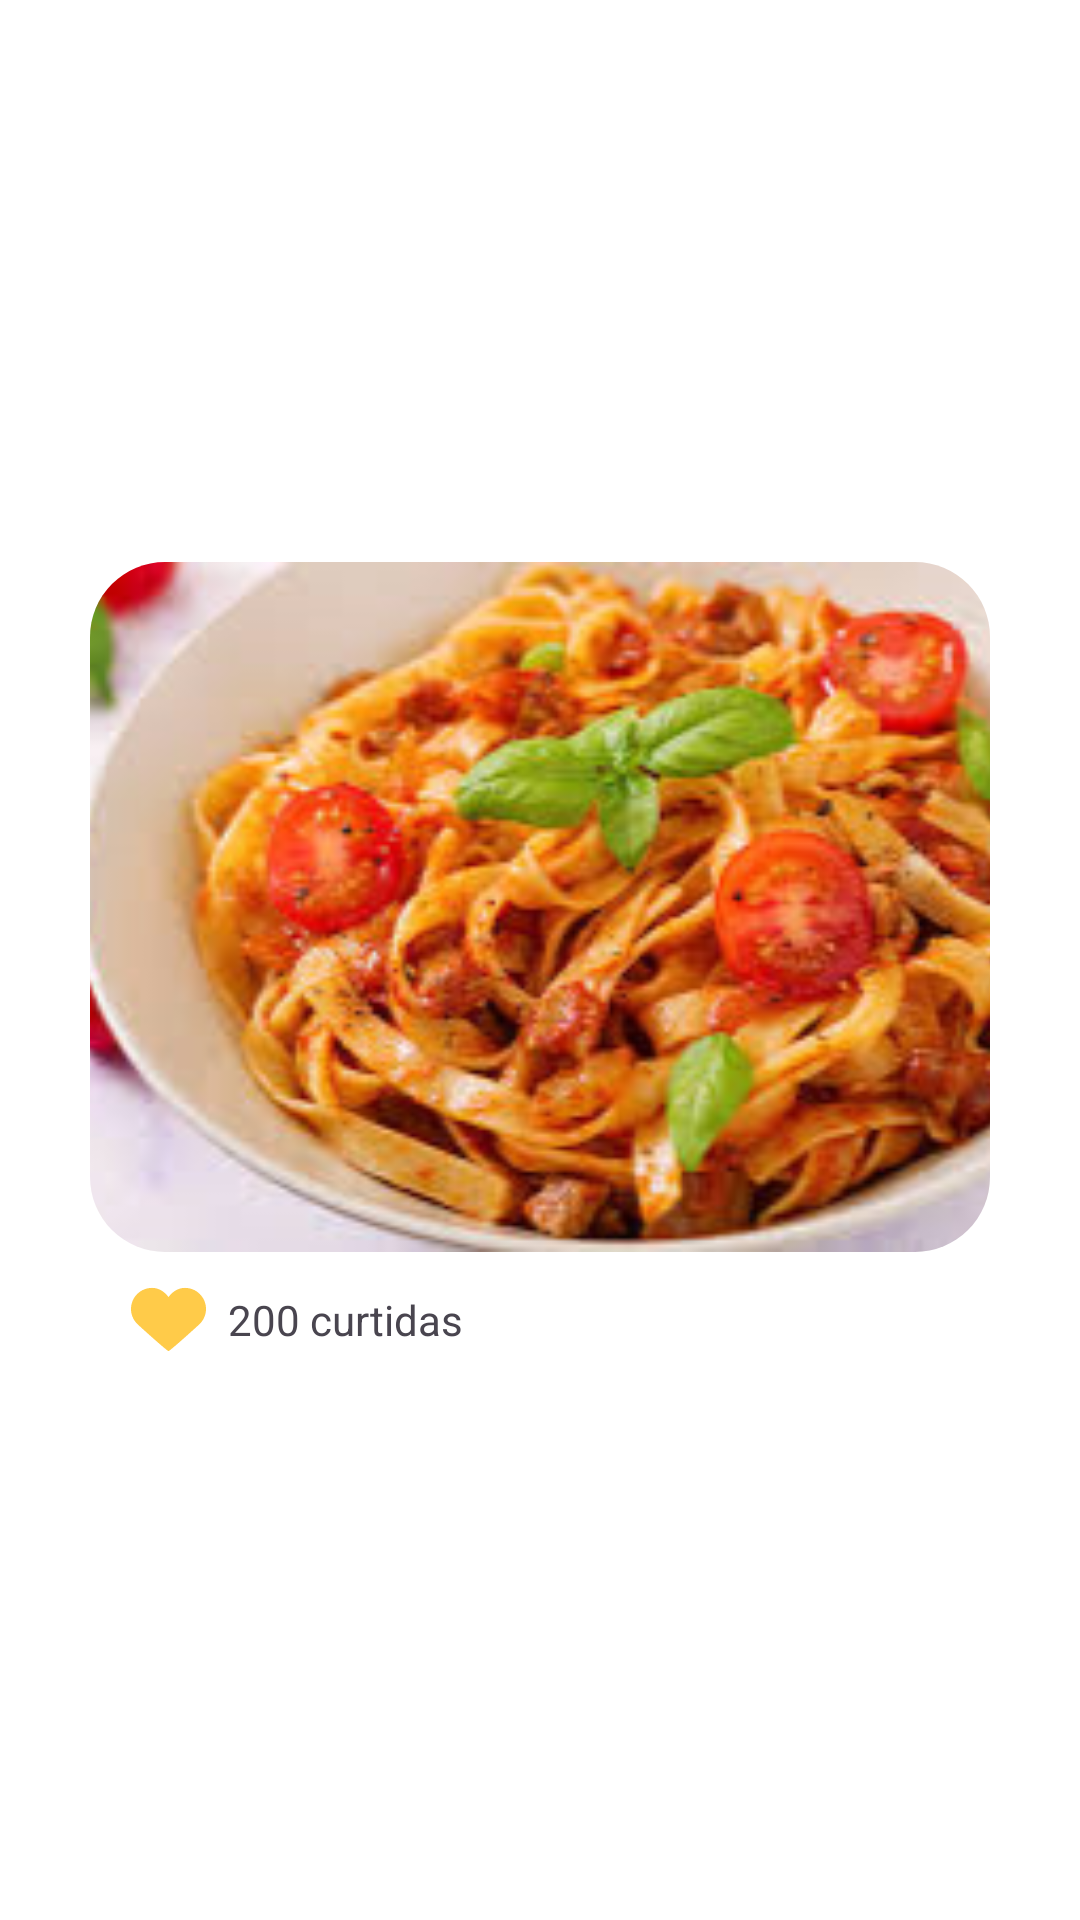

Screen size 1080px x 1920px. Icon name, then its box in pixels as (x1, y1, x2, y2):
like: (131, 1288, 206, 1351)
